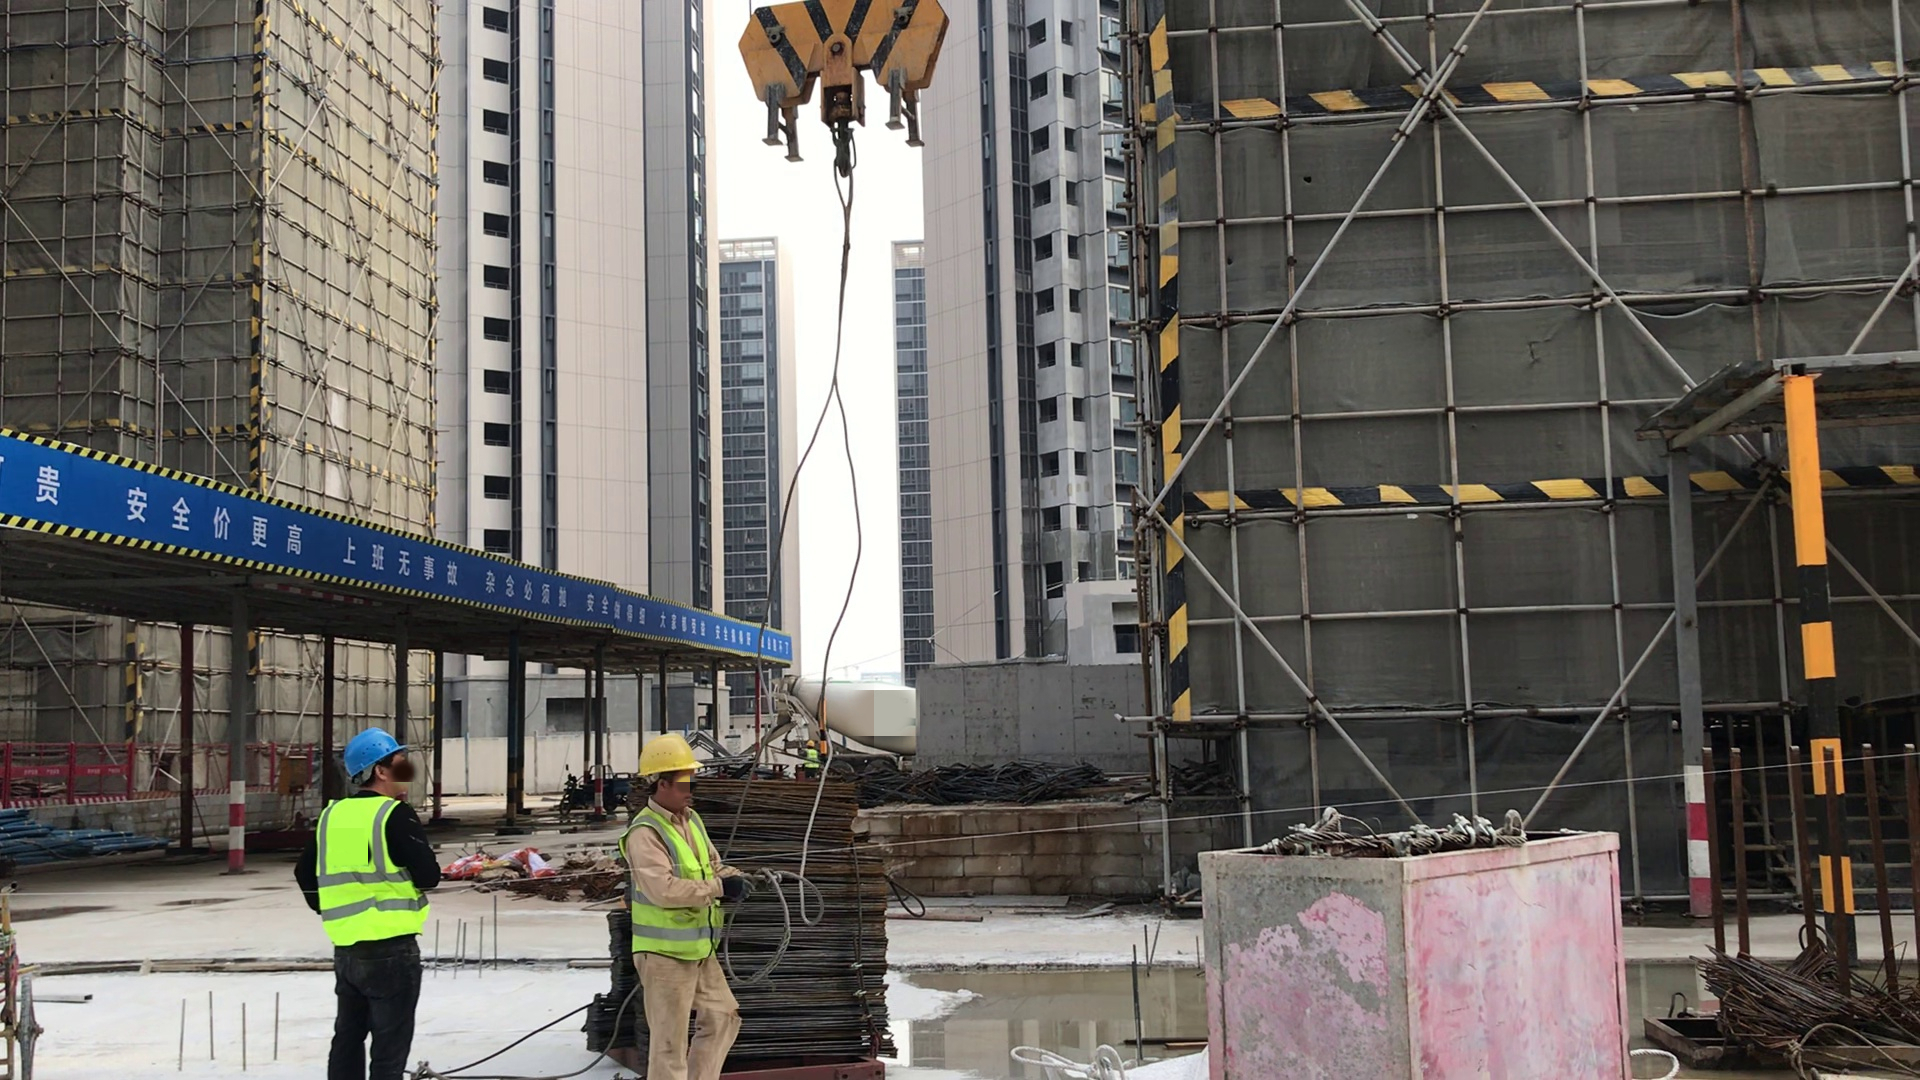ebox: (276, 751, 308, 798)
fence: (1, 740, 311, 805)
helmet: (636, 731, 701, 780), (342, 729, 406, 778), (804, 739, 817, 748)
hook: (722, 1, 956, 190)
person: (298, 729, 440, 1080), (610, 727, 751, 1080), (798, 734, 823, 777)
slogan: (19, 443, 308, 564), (340, 527, 589, 618), (590, 587, 808, 659)
vest: (315, 796, 427, 944), (624, 809, 727, 959), (804, 749, 820, 769)
